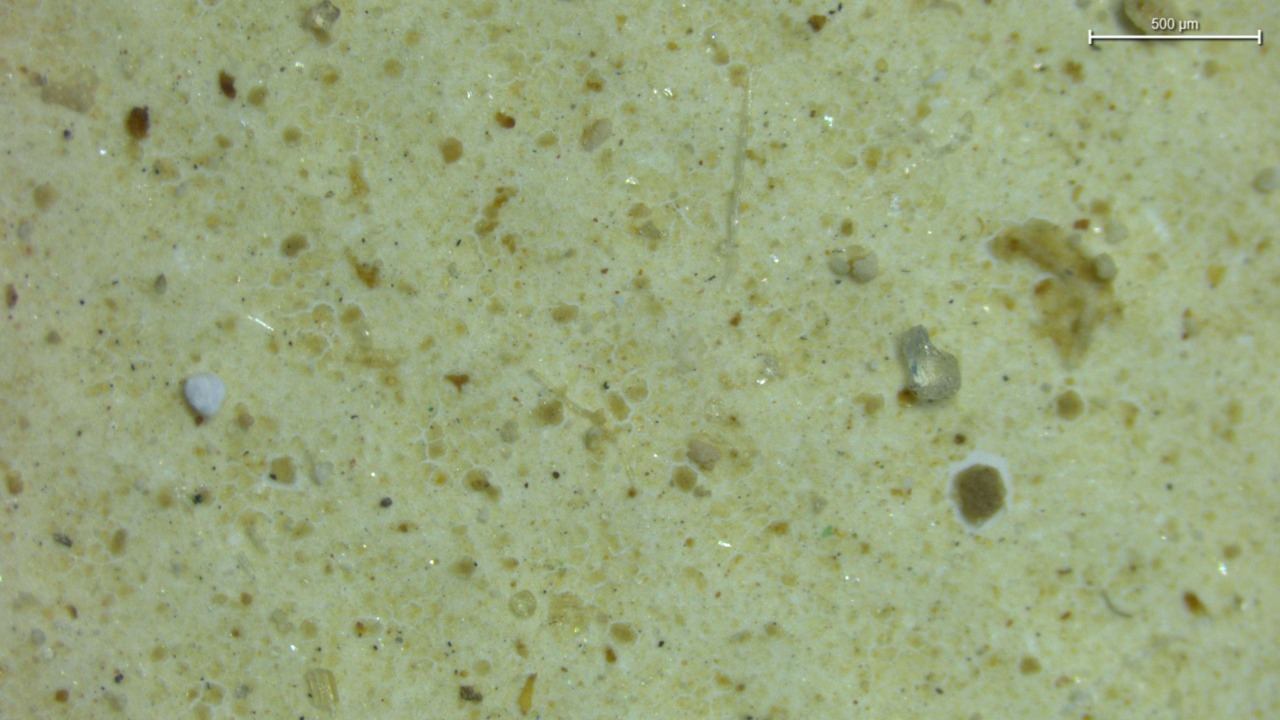microplastic_fragment: (899, 326, 960, 401), (184, 372, 225, 418), (829, 246, 878, 283)
